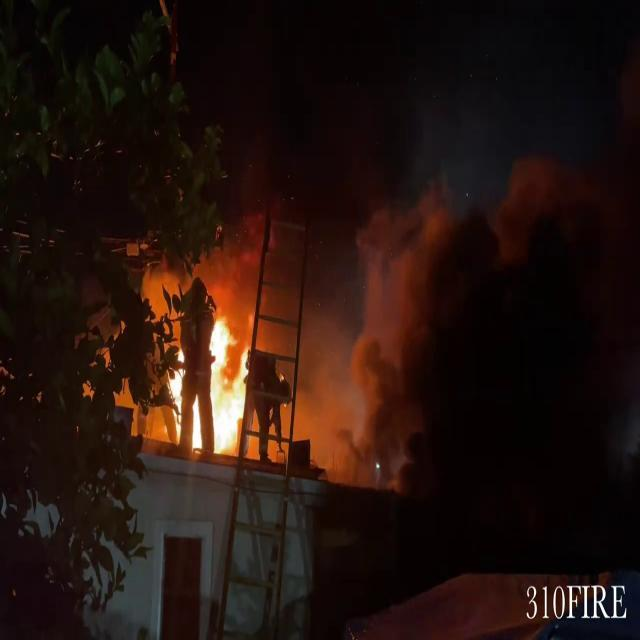Fire: (167, 306, 255, 458)
Smoke: (333, 118, 639, 474)
